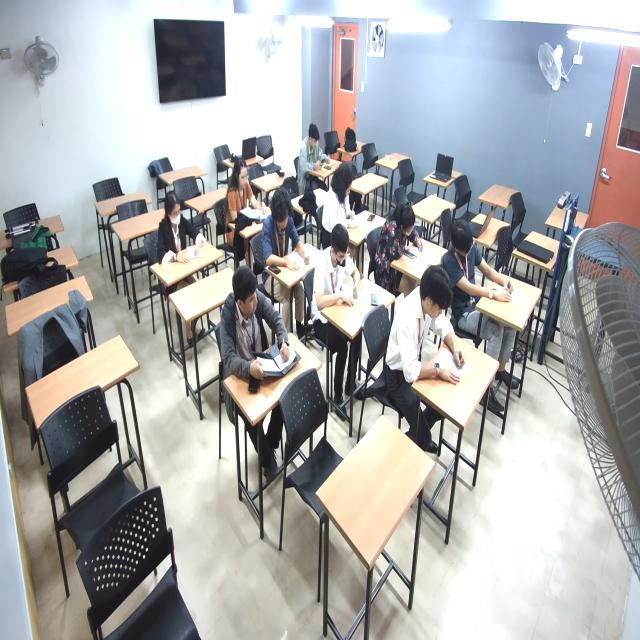read: (225, 272, 308, 393), (394, 279, 474, 394), (451, 230, 524, 310), (263, 195, 316, 284), (152, 194, 209, 275), (319, 234, 367, 317), (225, 161, 270, 226), (326, 174, 367, 237), (384, 205, 429, 261), (303, 126, 338, 173)
